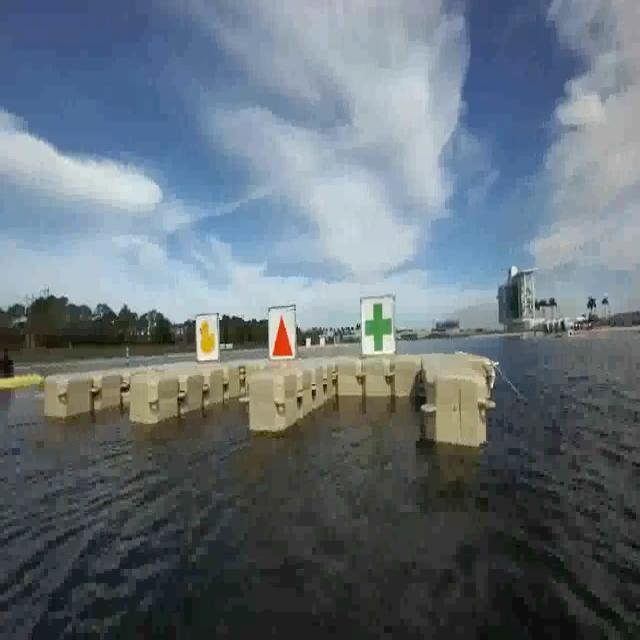blue-cross: (362, 299, 397, 357)
red-dot: (267, 306, 297, 358)
yellow-duck: (195, 315, 219, 359)
